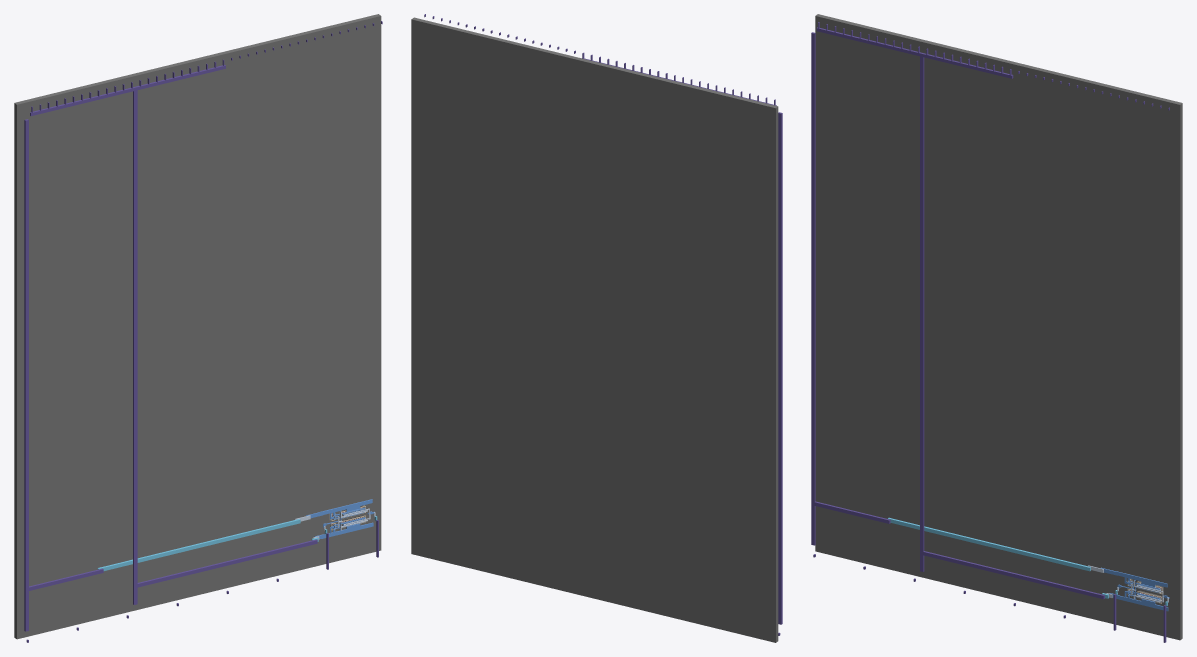
The model's file is tinytapeout.gds.gltf.
3 views of the same model, side by side, from view 1: azimuth 30°, elevation 25°; view 2: azimuth 150°, elevation 25°; view 3: azimuth 330°, elevation 25° (orthographic).
Visible parts, largest first — view 1: tt_um_mattvenn_inverter_substrate, tt_um_mattvenn_inverter_met4, tt_um_mattvenn_inverter_met3, inverter_met1; view 2: tt_um_mattvenn_inverter_substrate, tt_um_mattvenn_inverter_met4; view 3: tt_um_mattvenn_inverter_substrate, tt_um_mattvenn_inverter_met4, tt_um_mattvenn_inverter_met3, inverter_met1.
Boxes of the visible parts, <box> form: tt_um_mattvenn_inverter_substrate: <box>14,14,381,639</box>; tt_um_mattvenn_inverter_met4: <box>24,21,382,642</box>; tt_um_mattvenn_inverter_met3: <box>97,516,377,570</box>; inverter_met1: <box>320,499,373,538</box>; tt_um_mattvenn_inverter_substrate: <box>411,17,778,642</box>; tt_um_mattvenn_inverter_met4: <box>424,14,782,635</box>; tt_um_mattvenn_inverter_substrate: <box>815,14,1182,640</box>; tt_um_mattvenn_inverter_met4: <box>811,22,1169,642</box>; tt_um_mattvenn_inverter_met3: <box>887,517,1167,606</box>; inverter_met1: <box>1115,571,1168,611</box>.
Bounding box in the file's own units: 161 × 226 × 6.87.
